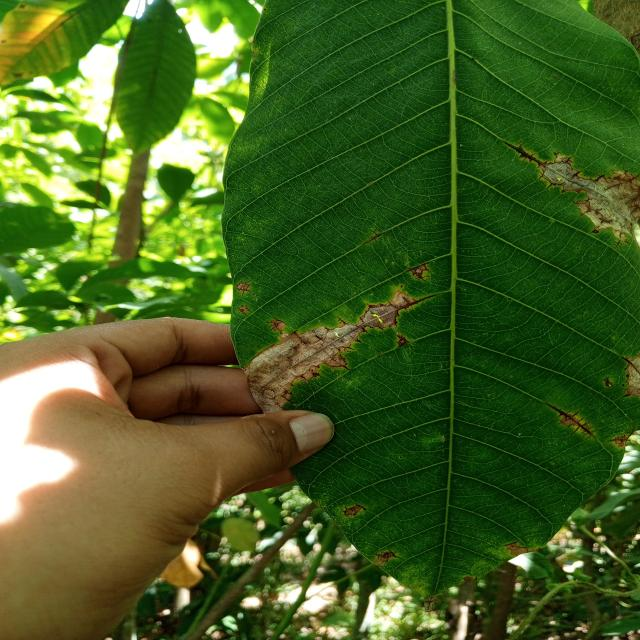Colletotrichum: (317, 501, 321, 504), (312, 330, 315, 333), (352, 508, 355, 511)
Corynespora: (546, 402, 596, 439), (504, 141, 549, 169), (397, 293, 439, 313), (405, 262, 432, 282), (266, 315, 288, 334), (620, 356, 640, 375), (363, 228, 382, 245), (374, 548, 398, 560), (235, 280, 252, 296), (394, 333, 410, 347), (293, 330, 307, 344), (237, 304, 252, 316), (612, 233, 623, 248), (607, 436, 627, 444), (605, 182, 623, 190), (592, 173, 607, 182), (625, 426, 637, 437), (560, 156, 575, 164), (570, 169, 582, 179), (536, 170, 546, 181), (337, 316, 349, 325), (546, 180, 556, 190), (629, 173, 640, 180), (355, 502, 365, 508), (343, 506, 349, 516), (314, 334, 323, 340), (346, 346, 356, 351), (342, 366, 352, 370), (285, 398, 293, 403), (362, 328, 368, 334), (356, 339, 362, 343)
Leaf-Blight: (242, 324, 362, 413), (539, 162, 640, 245), (363, 306, 397, 326), (628, 356, 640, 396), (506, 543, 538, 556), (392, 291, 416, 308), (346, 505, 362, 515)
